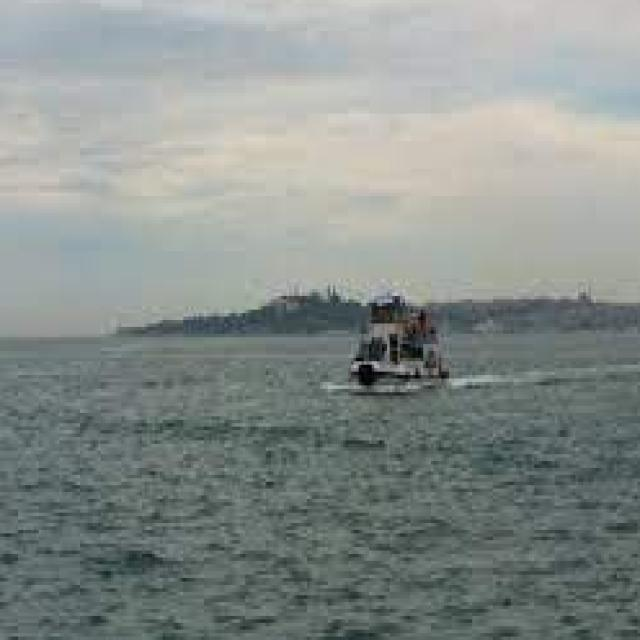fishing boat: (334, 296, 459, 379)
